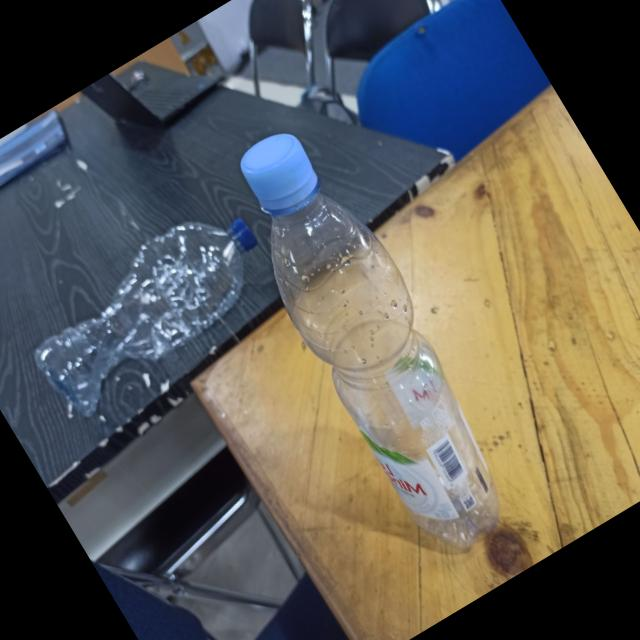BotolPlastik: (202, 111, 542, 567), (2, 186, 304, 445)
